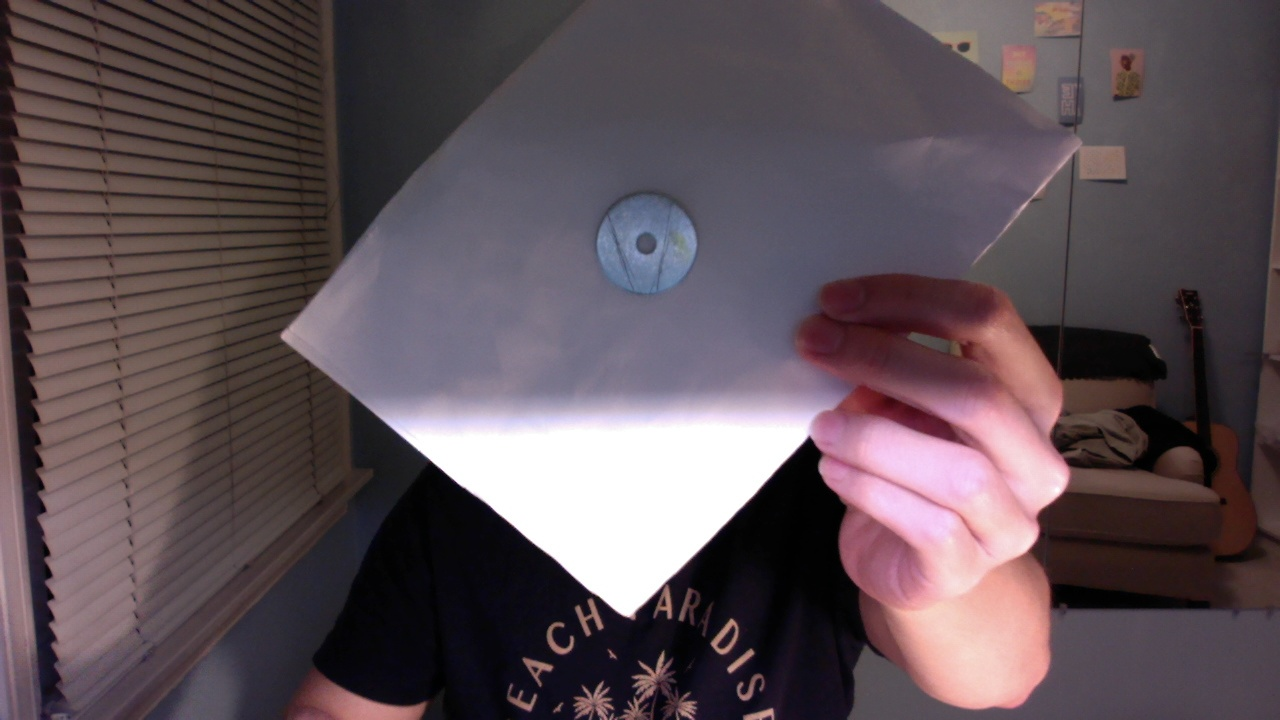DetectiveWashers: (603, 198, 679, 292)
